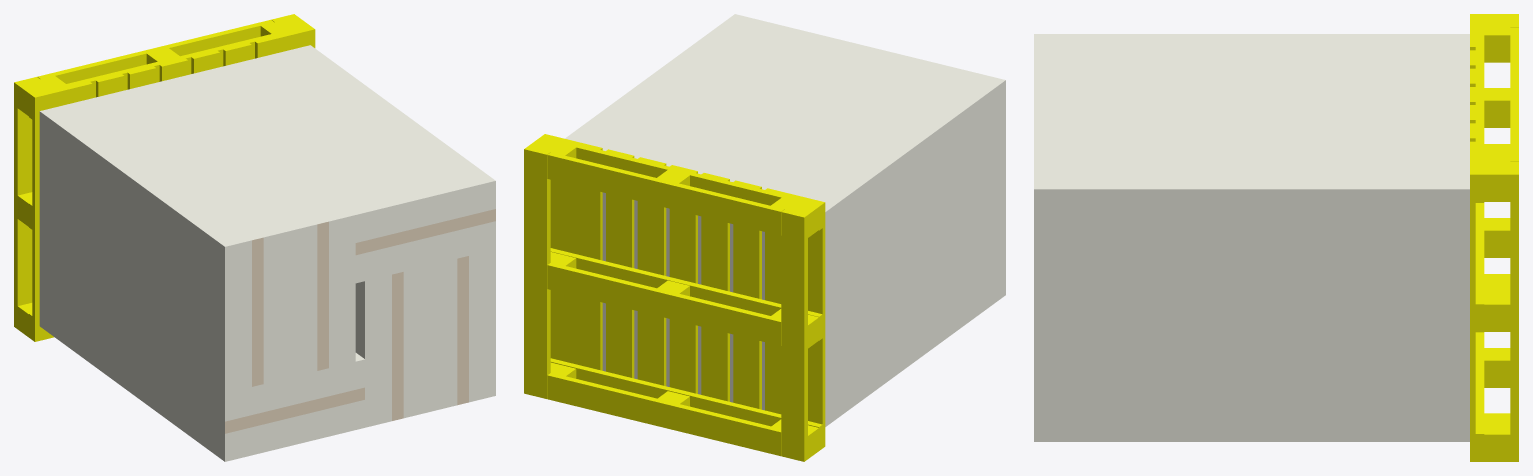
File: 794b038e-d2ec-44a2-a0dd-d9eaa905dea9.glb
3 renders of one model, left to right at view 1: azimuth 30°, elevation 25°; view 2: azimuth 150°, elevation 25°; view 3: azimuth 270°, elevation 25°, orthographic. The views are drawn at different scales.
Parts seen in each view (by area): view 1: Case (×36), pallet; view 2: Case (×32), pallet; view 3: Case (×30), pallet.
Part boxes in pixels (x1,y1,x2,y2): Case (×36): (39,45,495,461); pallet: (14,14,315,341); Case (×32): (565,14,1005,426); pallet: (524,134,825,461); Case (×30): (1034,34,1469,441); pallet: (1470,14,1518,461).
Size of the model in its own units: 1200 by 1000 by 1530.
